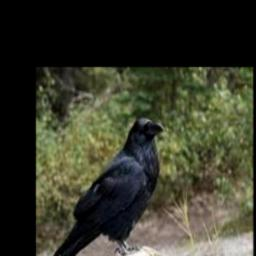Crow: (48, 117, 165, 256)
